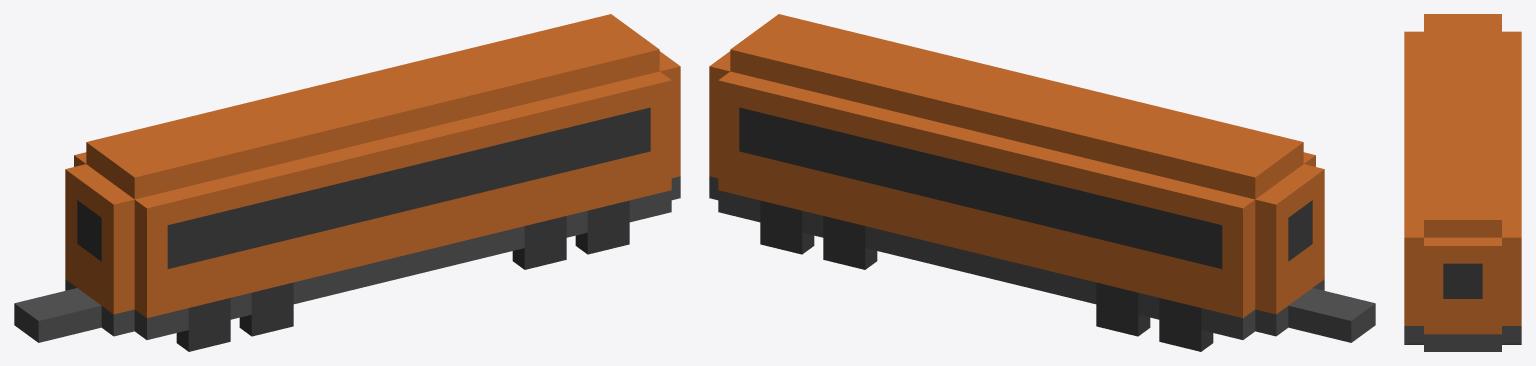
Rendered from train-trailer-v5-orange.gltf.
3 views of the same model, side by side, from view 1: azimuth 30°, elevation 25°; view 2: azimuth 150°, elevation 25°; view 3: azimuth 270°, elevation 25° (orthographic). The views are drawn at different scales.
Visible parts, largest first — view 1: model, wheels; view 2: model, wheels; view 3: model.
Part boxes in pixels (box(x1,y1,x2,y2)): model: box(14, 14, 680, 342); wheels: box(176, 200, 629, 351); model: box(709, 14, 1375, 342); wheels: box(760, 200, 1213, 351); model: box(1404, 14, 1521, 351).
Bounding box in the file's own units: 3 × 0.8 × 0.6.
Materials: 2 (2 with a texture image).
